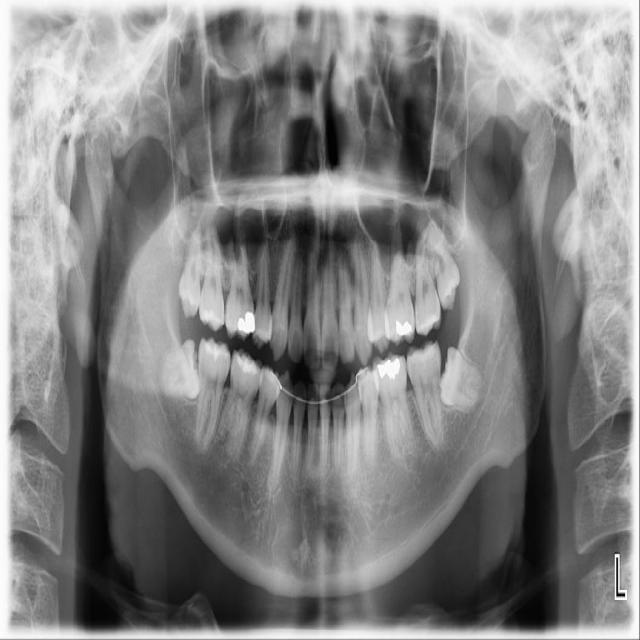3M ESPE Implant: (177, 231, 204, 318)
52: (369, 348, 412, 400), (382, 293, 418, 347), (229, 347, 264, 400), (198, 336, 231, 385), (225, 291, 256, 340), (197, 283, 226, 332)
73: (598, 574, 604, 584)
BioHorizons Implant: (407, 226, 443, 338)
BioLife Implant: (425, 214, 466, 312)
Biomet 3i Implant: (432, 346, 496, 416)
Blue Sky Bio Implant: (406, 340, 445, 454)
Caries: (191, 224, 227, 333)
Implant: (193, 336, 232, 452)
Keystone Dental Implant: (156, 337, 206, 403)
